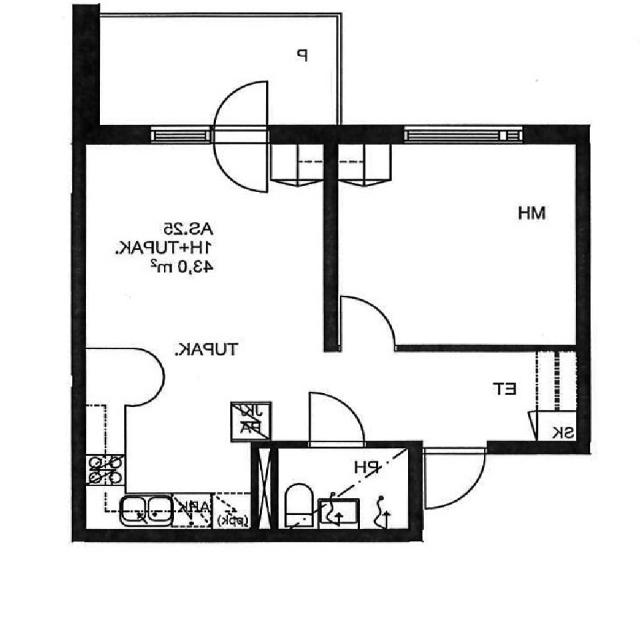door: (426, 441, 485, 509), (214, 76, 267, 144), (214, 124, 267, 192), (310, 392, 364, 448), (342, 295, 395, 352)
